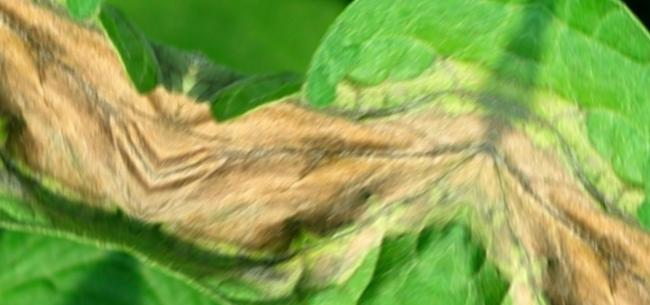Tomato leaf late blight: (79, 0, 554, 305)
